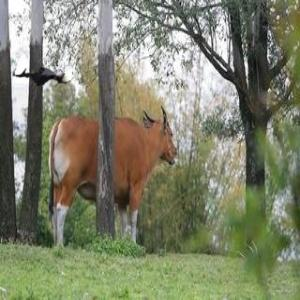drone: (14, 49, 73, 108)
